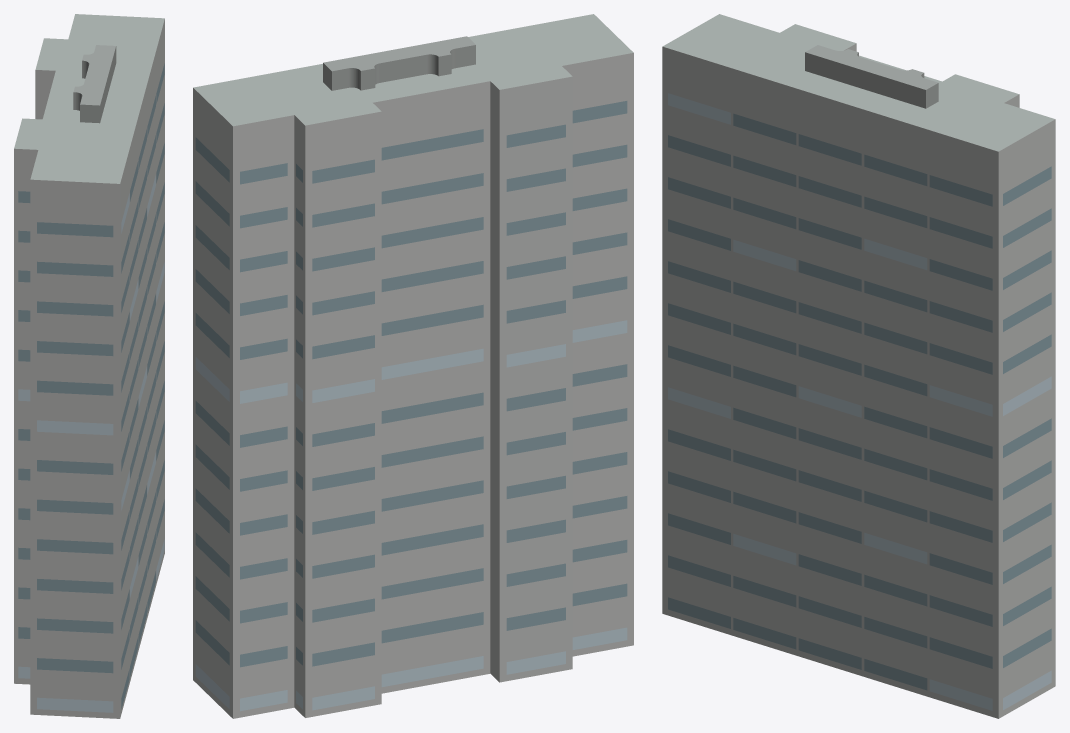
The model's file is fallback-jamsil-trizium-320.glb.
3 renders of one model, left to right at view 1: azimuth 30°, elevation 25°; view 2: azimuth 150°, elevation 25°; view 3: azimuth 270°, elevation 25°, orthographic. The views are drawn at different scales.
Parts seen in each view (by area): view 1: fallback-jamsil-trizium-320; view 2: fallback-jamsil-trizium-320; view 3: fallback-jamsil-trizium-320.
Part boxes in pixels (x1,y1,x2,y2): fallback-jamsil-trizium-320: [14, 14, 164, 718]; fallback-jamsil-trizium-320: [193, 14, 633, 718]; fallback-jamsil-trizium-320: [662, 14, 1055, 718].
Bounding box in the file's own units: 37.81 × 75 × 45.61.
